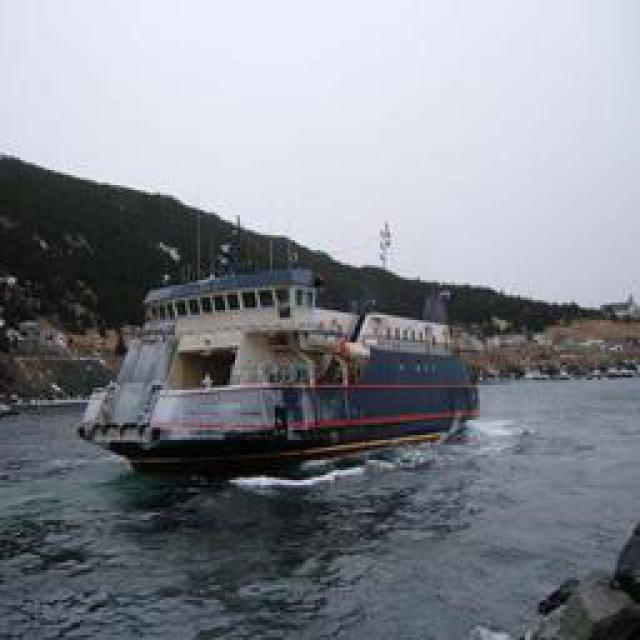Ship: (71, 268, 481, 476)
